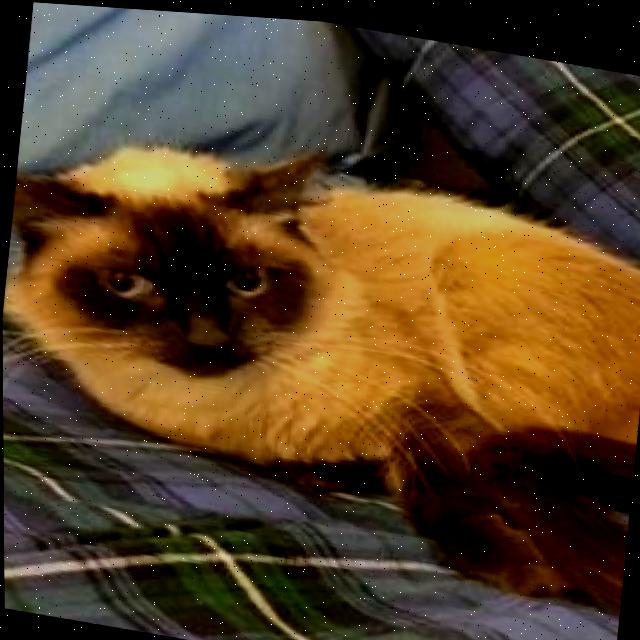Birman: (1, 91, 640, 606)
